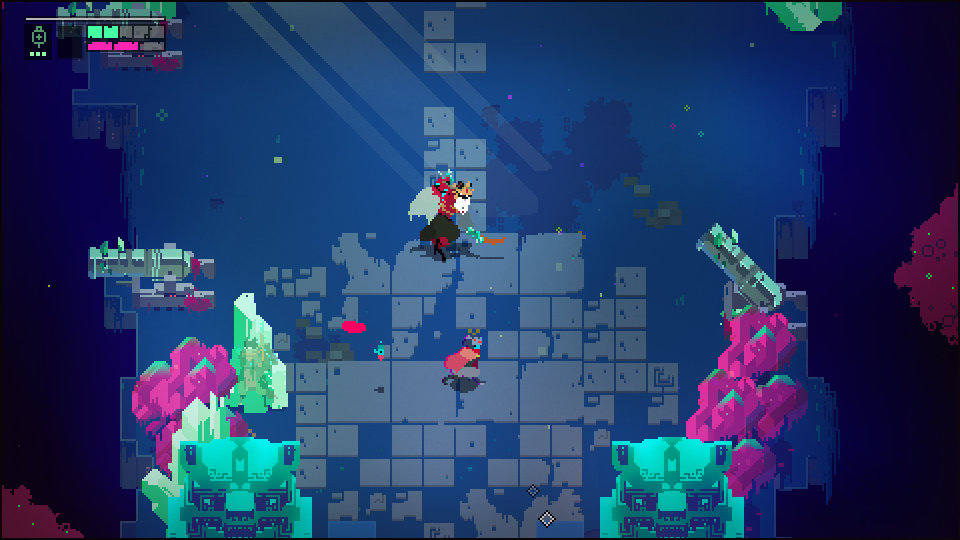hanged_man: (411, 179, 490, 251)
player: (441, 336, 483, 388)
